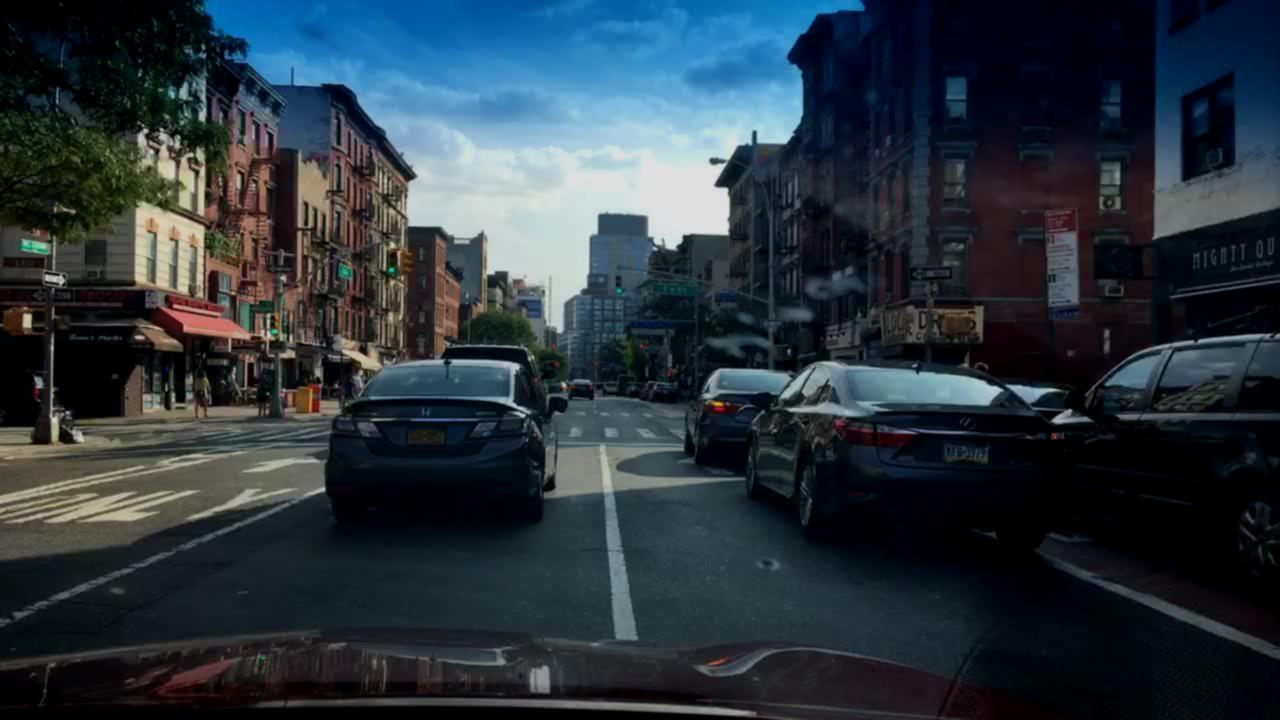Honda: (413, 401, 446, 423)
lexus: (947, 412, 987, 433)
